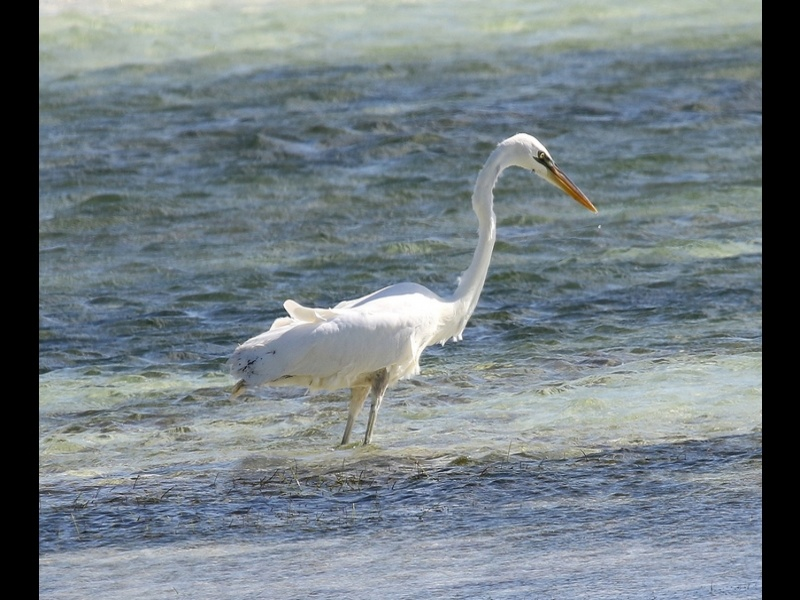heron: (228, 128, 600, 463)
